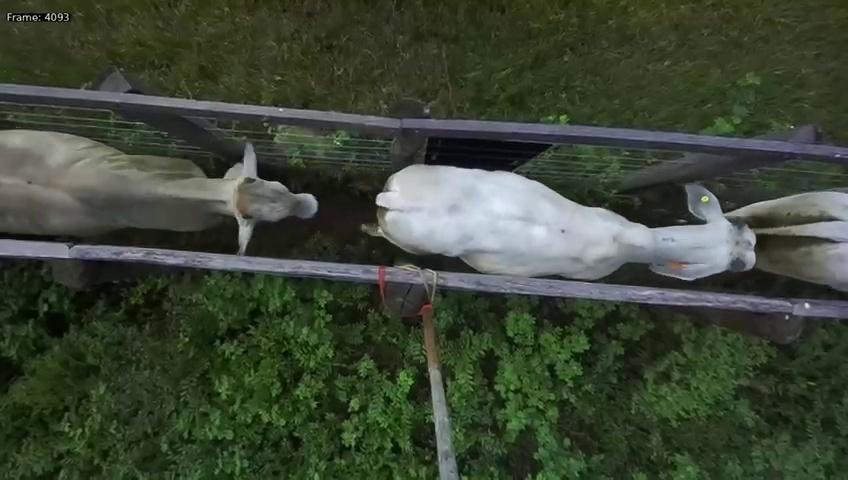cattle: (355, 155, 761, 284), (1, 129, 319, 255)
